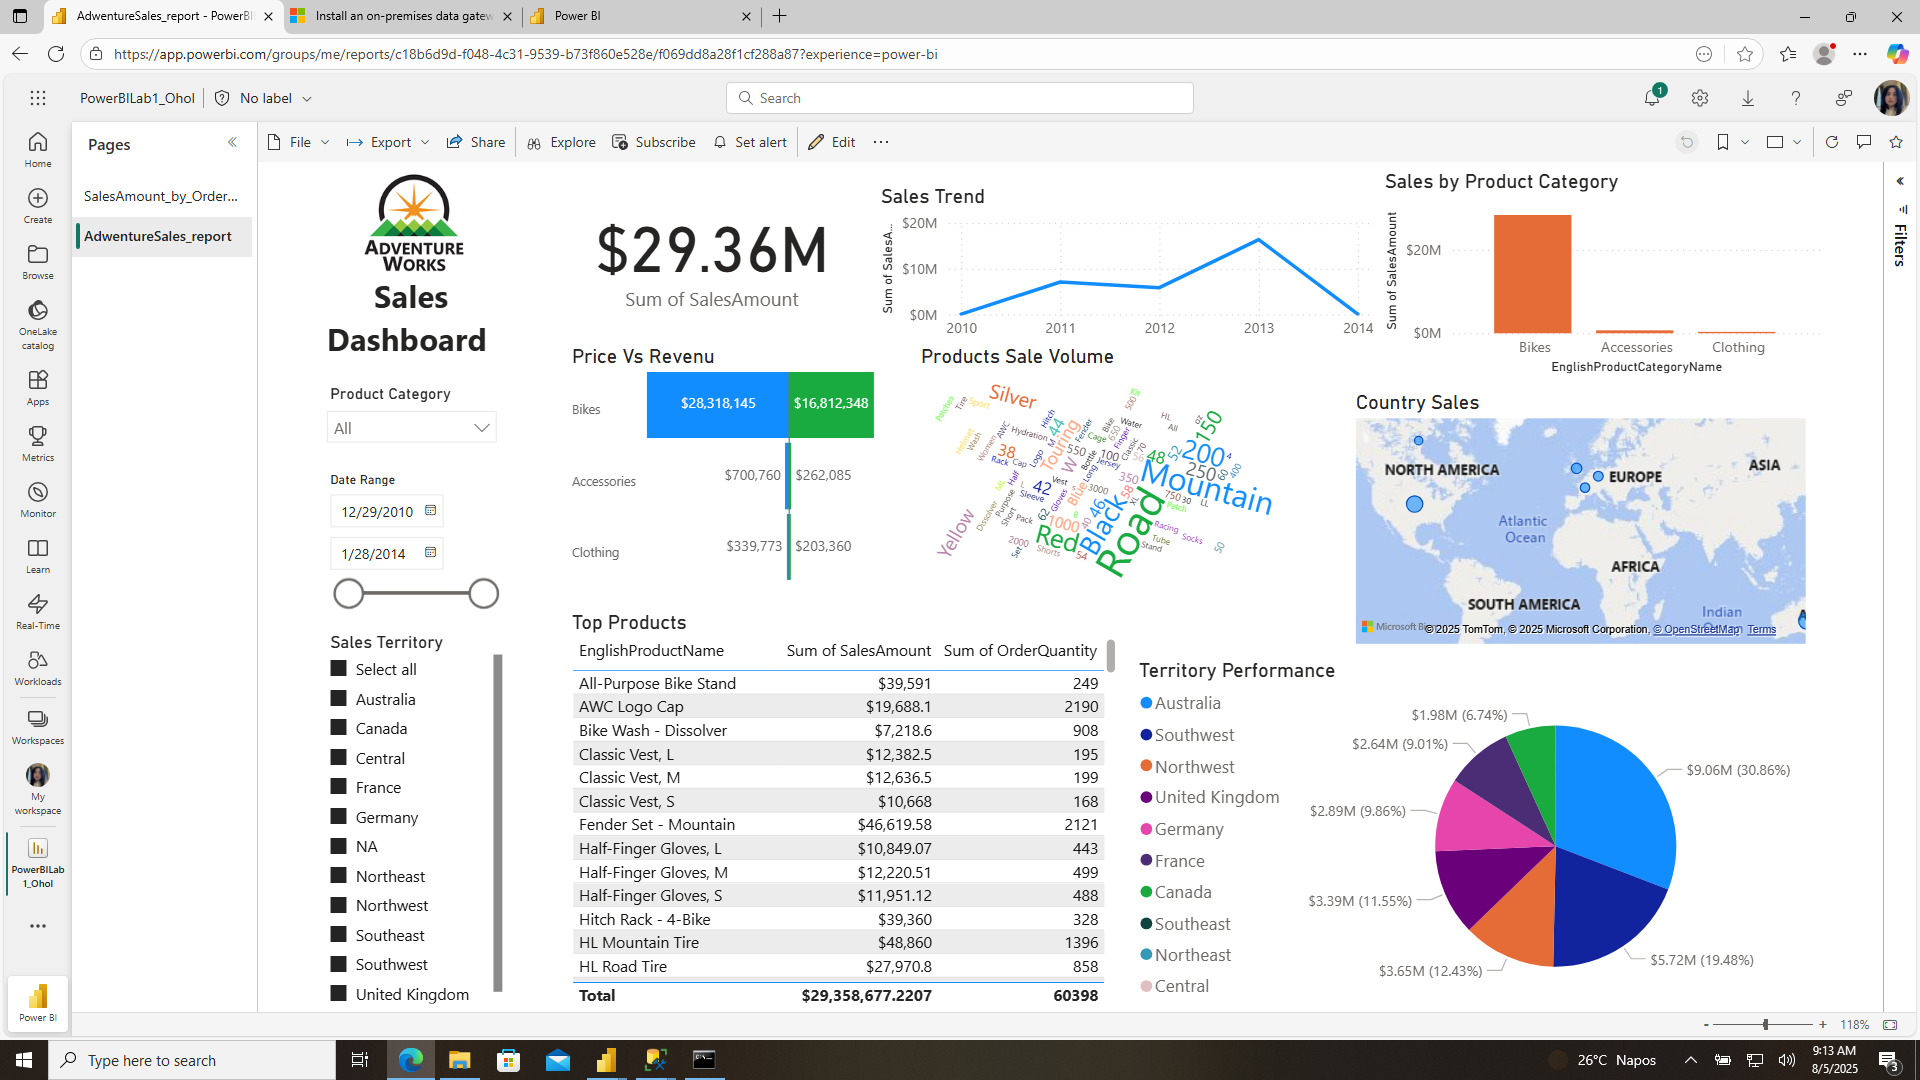

The page's visual inventory and layout, read from the dashboard file:
{"tool":"powerbi","page":{"name":"AdwentureSales_report","canvas":[1280,720],"ordinal":1},"visuals":[{"type":"textbox","box":[0,89.5,155.5,94.3],"z":0},{"type":"image","box":[3.8,0,160.2,102.7],"z":1000},{"type":"slicer","fields":{"Values":["DimProductCategory.EnglishProductCategoryName"]},"box":[0,183.8,164,66],"z":2000},{"type":"slicer","fields":{"Values":["DimSalesTerritory.SalesTerritoryRegion"]},"box":[0,394,164,326.1],"z":3000},{"type":"slicer","fields":{"Values":["FactInternetSales.OrderDate"]},"box":[0,257.3,164,122.5],"z":4000},{"type":"clusteredColumnChart","title":"Sales by Product Category","fields":{"Category":["DimProductCategory.EnglishProductCategoryName"],"Y":["Sum(FactInternetSales.SalesAmount)"]},"box":[901.1,5.7,378.9,178.1],"z":5000},{"type":"card","fields":{"Values":["Sum(FactInternetSales.SalesAmount)"]},"box":[223.4,26.4,225.3,102.7],"z":6000},{"type":"lineChart","title":"Sales Trend","fields":{"Category":["FactInternetSales.OrderDate.Variation.Date Hierarchy.Year","FactInternetSales.OrderDate.Variation.Date Hierarchy.Quarter","FactInternetSales.OrderDate.Variation.Date Hierarchy.Month","FactInternetSales.OrderDate.Variation.Date Hierarchy.Day"],"Y":["Sum(FactInternetSales.SalesAmount)"]},"box":[474.1,18.9,427,140.4],"z":7000},{"type":"pieChart","title":"Territory Performance","fields":{"Category":["DimSalesTerritory.SalesTerritoryRegion"],"Y":["Sum(FactInternetSales.SalesAmount)"]},"box":[692.8,420.4,587.2,299.7],"z":8000},{"type":"tableEx","title":"Top Products","fields":{"Values":["DimProduct.EnglishProductName","Sum(FactInternetSales.SalesAmount)","Sum(FactInternetSales.OrderQuantity)"]},"box":[213,379.9,471.3,340.3],"z":9000},{"type":"map","title":"Country Sales ","fields":{"Category":["DimSalesTerritory.SalesTerritoryCountry"],"Size":["Sum(FactInternetSales.SalesAmount)"]},"box":[876.6,193.2,391.2,219.6],"z":10000},{"type":"TornadoChart1452517688218","title":"Price Vs Revenu","fields":{"Category":["DimProductCategory.EnglishProductCategoryName"],"Values":["Sum(FactInternetSales.SalesAmount)","Sum(FactInternetSales.TotalProductCost)"]},"box":[213,154.6,329,225.3],"z":11000},{"type":"WordCloud1447959067750","title":"Products Sale Volume","fields":{"Values":["Sum(FactInternetSales.SalesAmount)"],"Category":["DimProduct.EnglishProductName"]},"box":[508,154.6,368.5,239.4],"z":12000}]}

Visuals, with their boxes on the page's 1280x720 design canvas (x1, y1, x2, y2). These are canvas units, not pixel positions in the 1920x1080 screenshot, which may show the page scaled, cropped or inside an application window:
textbox: left=0, top=90, right=156, bottom=184
image: left=4, top=0, right=164, bottom=103
slicer - DimProductCategory.EnglishProductCategoryName: left=0, top=184, right=164, bottom=250
slicer - DimSalesTerritory.SalesTerritoryRegion: left=0, top=394, right=164, bottom=720
slicer - FactInternetSales.OrderDate: left=0, top=257, right=164, bottom=380
"Sales by Product Category" clusteredColumnChart: left=901, top=6, right=1280, bottom=184
card - Sum(FactInternetSales.SalesAmount): left=223, top=26, right=449, bottom=129
"Sales Trend" lineChart: left=474, top=19, right=901, bottom=159
"Territory Performance" pieChart: left=693, top=420, right=1280, bottom=720
"Top Products" tableEx: left=213, top=380, right=684, bottom=720
"Country Sales " map: left=877, top=193, right=1268, bottom=413
"Price Vs Revenu" TornadoChart1452517688218: left=213, top=155, right=542, bottom=380
"Products Sale Volume" WordCloud1447959067750: left=508, top=155, right=876, bottom=394
